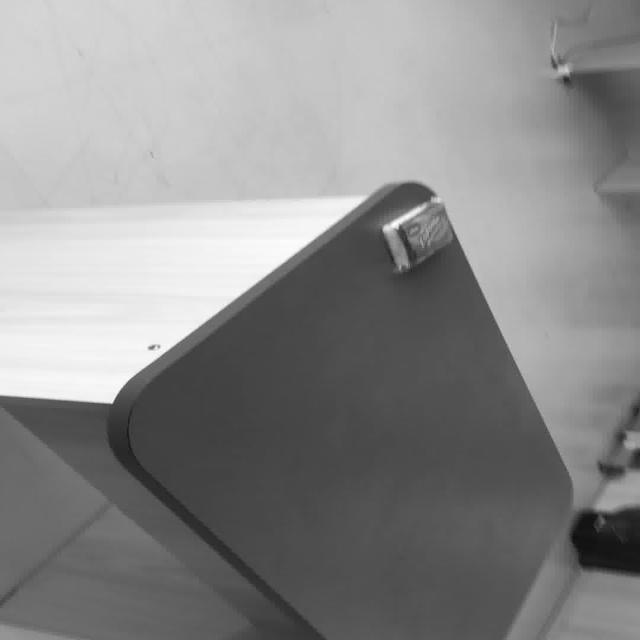sponge: (106, 179, 574, 638), (379, 196, 453, 273)
